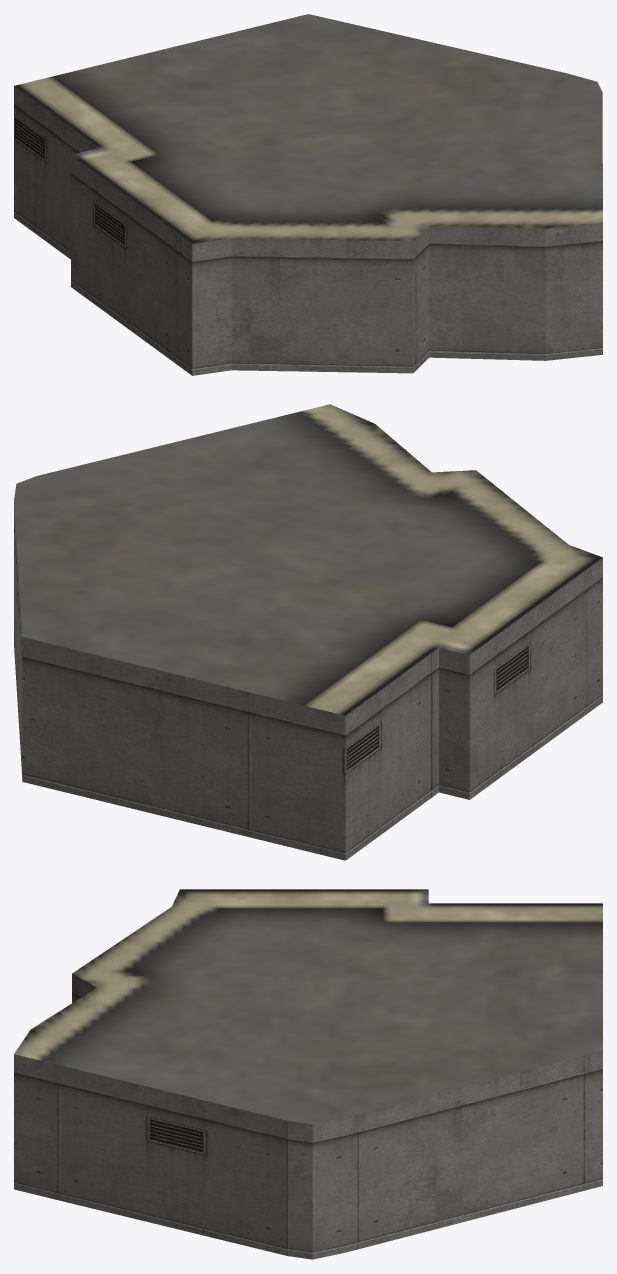
File: building_medium_07.glb
3 renders of one model, top to bottom at view 1: azimuth 30°, elevation 25°; view 2: azimuth 150°, elevation 25°; view 3: azimuth 270°, elevation 25°, orthographic. The views are drawn at different scales.
Parts seen in each view (by area): view 1: buildings/saxarba/building_medium/building_medium_07; view 2: buildings/saxarba/building_medium/building_medium_07; view 3: buildings/saxarba/building_medium/building_medium_07.
Part boxes in pixels (x1,y1,x2,y2): buildings/saxarba/building_medium/building_medium_07: (14,14,602,375); buildings/saxarba/building_medium/building_medium_07: (14,404,602,860); buildings/saxarba/building_medium/building_medium_07: (14,889,602,1259).
Size of the model in its own units: 67 by 18 by 71.
